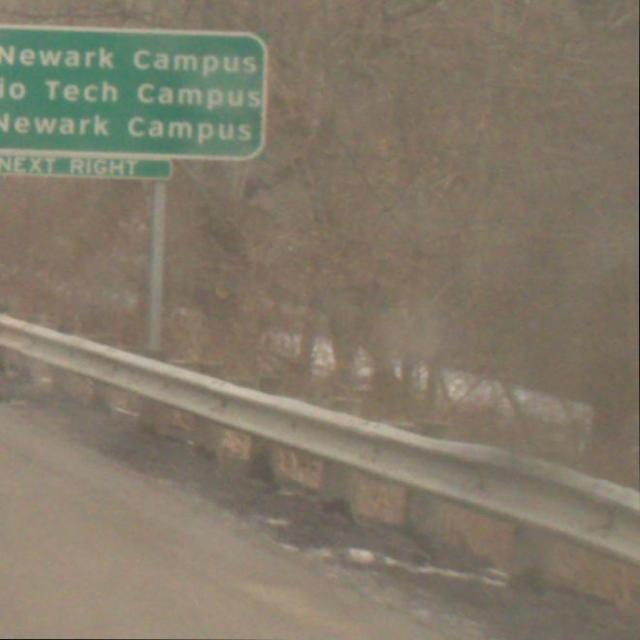Guard rail: (0, 314, 640, 619)
